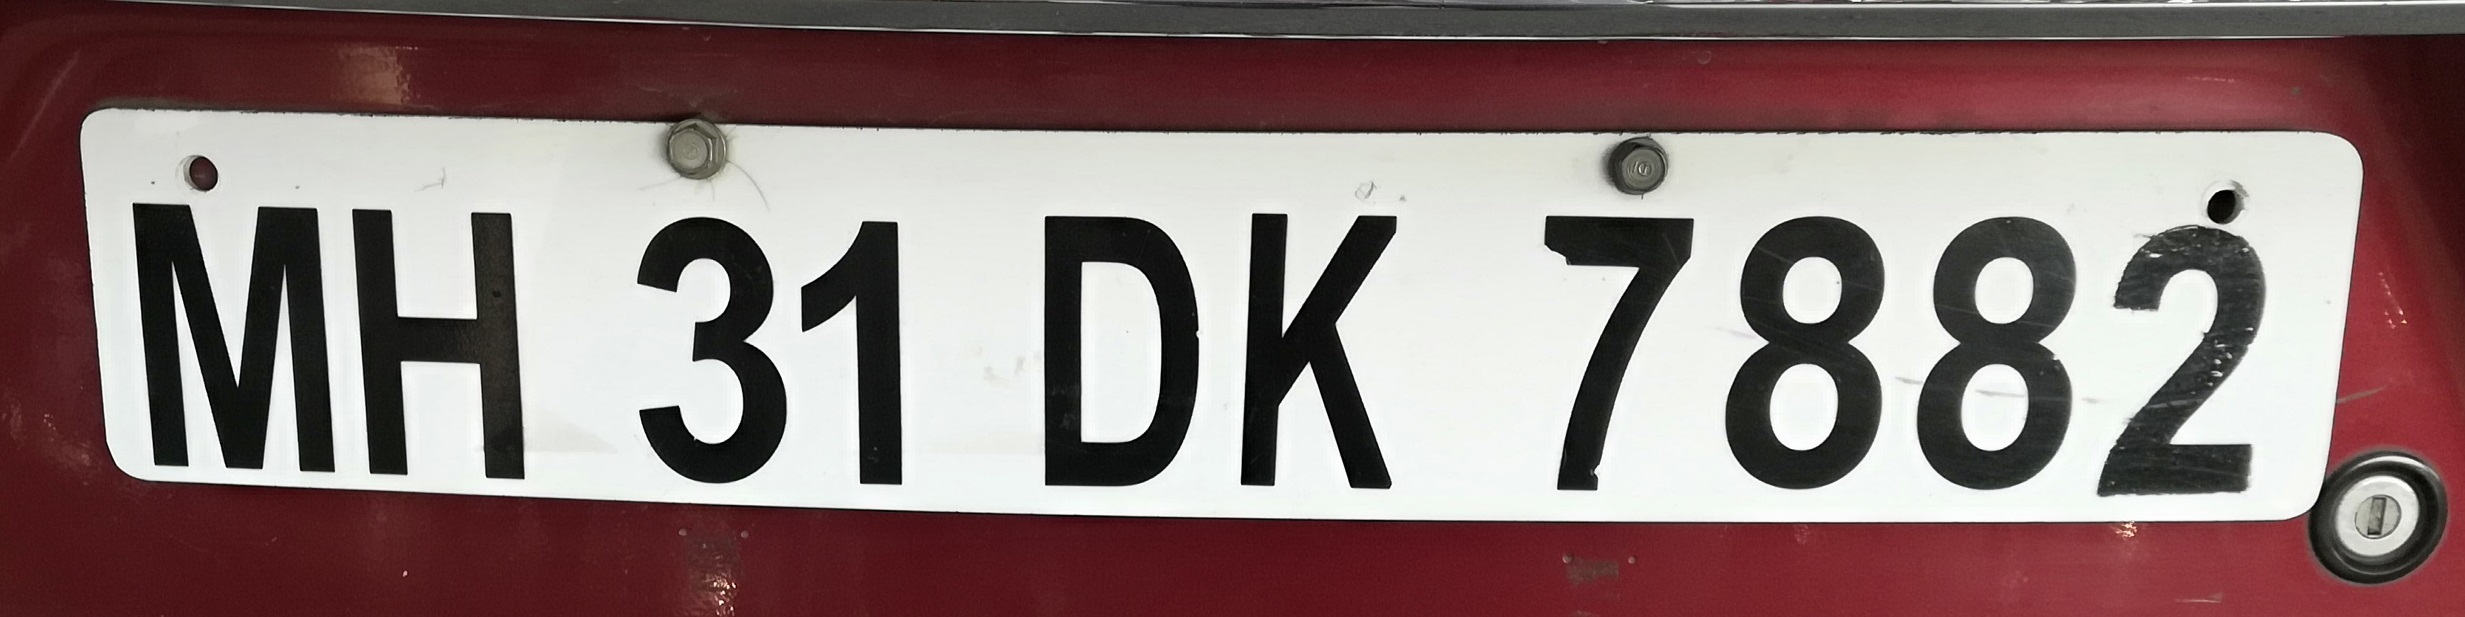numberplate: (70, 91, 2364, 536)
